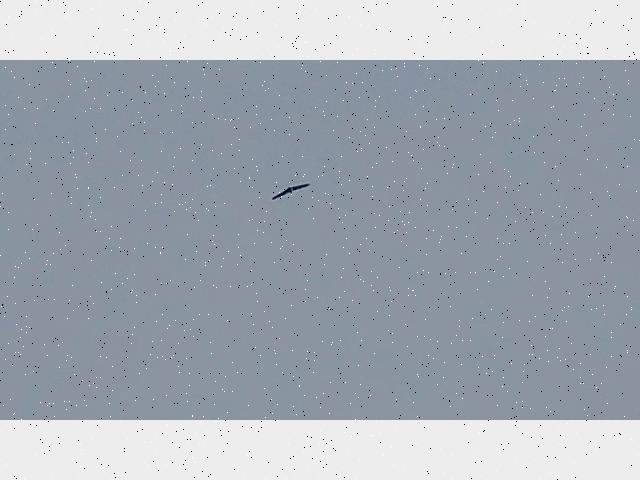Anti-Drone: (271, 182, 311, 202)
